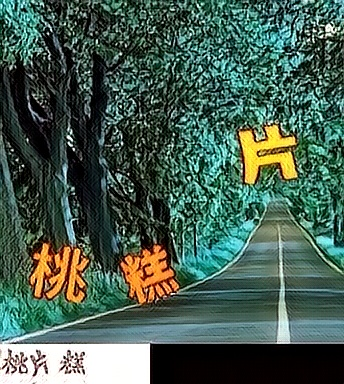B8E2: (118, 240, 181, 307)
C6AC: (236, 119, 299, 186)
CCD2: (27, 237, 90, 304)
